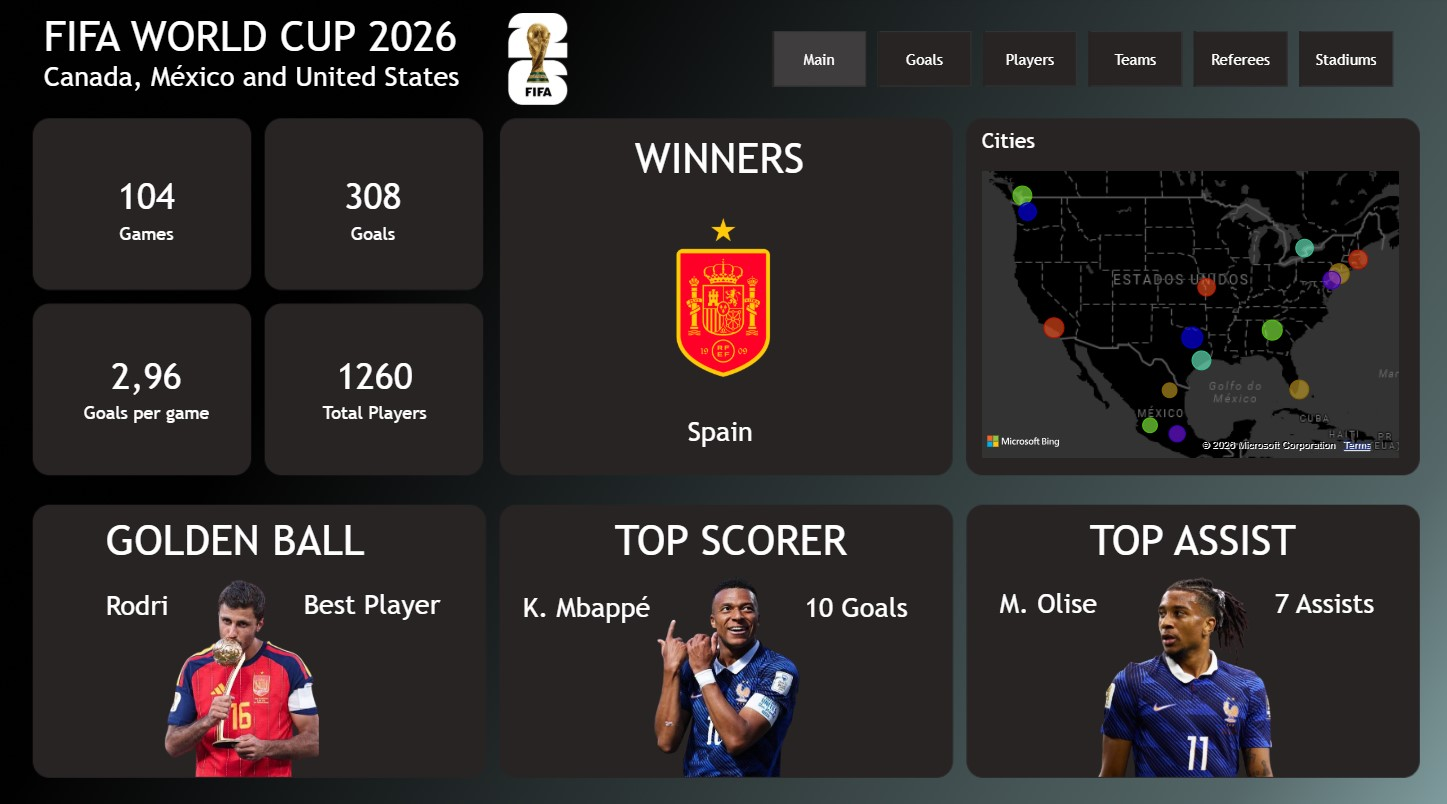

What the dashboard file says about the page in this screenshot:
{"tool":"powerbi","page":{"name":"Main","canvas":[1280,720],"ordinal":0},"visuals":[{"type":"textbox","box":[34.9,8,391.1,92.8],"z":0},{"type":"card","fields":{"Values":["Medidas.goals"]},"box":[239.4,115.7,183.6,138.7],"z":1000},{"type":"map","title":"Cities","fields":{"Category":["matches.city"],"Size":["CountNonNull(matches.match_no)"]},"box":[863,115.7,378.1,296.3],"z":2000},{"type":"card","fields":{"Values":["Medidas.Jogos"]},"box":[34.9,115.7,191.6,138.7],"z":3000},{"type":"card","fields":{"Values":["Medidas.Goals per game"]},"box":[34.9,274.4,191.6,137.7],"z":4000},{"type":"pageNavigator","box":[682.4,29.9,550.7,49.9],"z":5000},{"type":"image","box":[89.8,501.8,246.4,185.6],"z":6000},{"type":"textbox","box":[89.8,452.9,273.4,65.8],"z":7000},{"type":"image","box":[863,501.8,378.1,185.6],"z":8000},{"type":"image","box":[446,501.8,390.1,185.6],"z":9000},{"type":"textbox","box":[538.7,452.9,259.4,57.9],"z":10000},{"type":"textbox","box":[957.8,452.9,267.4,58.9],"z":11000},{"type":"textbox","box":[706.3,518.8,183.6,42.9],"z":12000},{"type":"textbox","box":[457.9,518.8,183.6,41.9],"z":13000},{"type":"textbox","box":[878.9,514.8,126.7,50.9],"z":14000},{"type":"textbox","box":[1121.4,514.8,103.8,51.9],"z":15000},{"type":"textbox","box":[89.8,516.8,95.8,46.9],"z":16000},{"type":"textbox","box":[264.4,515.8,133.7,48.9],"z":17000},{"type":"image","box":[445,189.6,390,150],"z":18000},{"type":"textbox","box":[556.7,115.7,169.6,58.9],"z":19000},{"type":"textbox","box":[603.6,363.1,72.8,48.9],"z":20000},{"type":"image","box":[395.1,14,162.3,80.6],"z":21000},{"type":"card","fields":{"Values":["Medidas.Total Players"]},"box":[239.4,274.4,186.6,137.7],"z":22000}]}

Visuals, with their boxes in screenshot pixels (x1, y1, x2, y2), scaled from the page's 1280x720 canvas onto the 1447x804 screenshot:
textbox: bbox=[39, 9, 482, 113]
card - Medidas.goals: bbox=[271, 129, 478, 284]
"Cities" map: bbox=[976, 129, 1403, 460]
card - Medidas.Jogos: bbox=[39, 129, 256, 284]
card - Medidas.Goals per game: bbox=[39, 306, 256, 460]
pageNavigator: bbox=[771, 33, 1394, 89]
image: bbox=[102, 560, 380, 768]
textbox: bbox=[102, 506, 411, 579]
image: bbox=[976, 560, 1403, 768]
image: bbox=[504, 560, 945, 768]
textbox: bbox=[609, 506, 902, 570]
textbox: bbox=[1083, 506, 1385, 572]
textbox: bbox=[798, 579, 1006, 627]
textbox: bbox=[518, 579, 725, 626]
textbox: bbox=[994, 575, 1137, 632]
textbox: bbox=[1268, 575, 1385, 633]
textbox: bbox=[102, 577, 210, 629]
textbox: bbox=[299, 576, 450, 631]
image: bbox=[503, 212, 944, 379]
textbox: bbox=[629, 129, 821, 195]
textbox: bbox=[682, 405, 765, 460]
image: bbox=[447, 16, 630, 106]
card - Medidas.Total Players: bbox=[271, 306, 482, 460]
